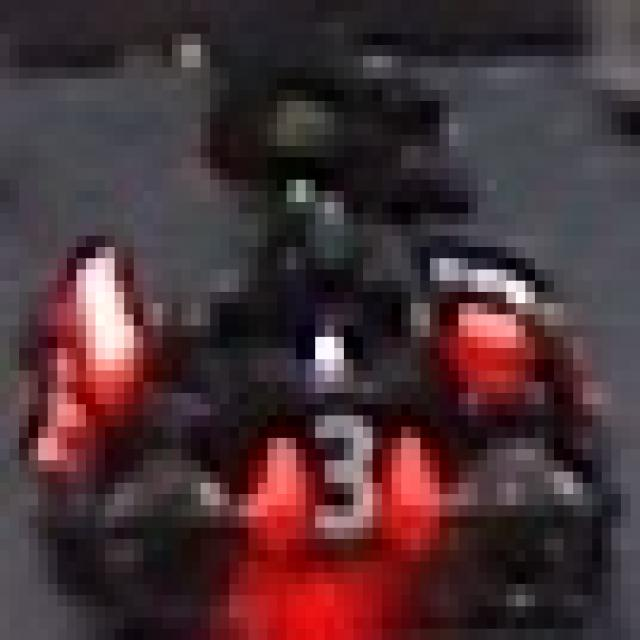R3: (258, 416, 420, 550), (430, 213, 554, 359)
